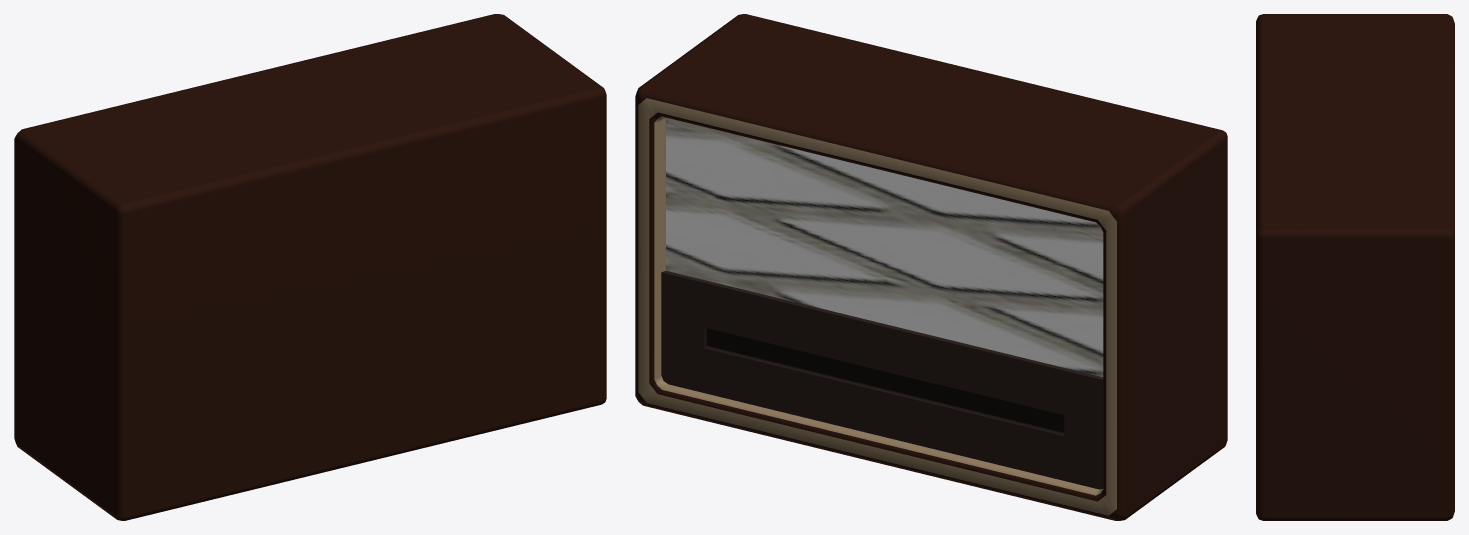
File: Radio.fbx
The picture shows the model from 3 angles, left to right: view 1: azimuth 30°, elevation 25°; view 2: azimuth 150°, elevation 25°; view 3: azimuth 270°, elevation 25°; orthographic projection. The views are drawn at different scales.
Visible parts, largest first — view 1: pCube254; view 2: pCube254; view 3: pCube254.
Part boxes in pixels (x1,y1,x2,y2): pCube254: (14, 14, 606, 520); pCube254: (635, 14, 1227, 520); pCube254: (1256, 14, 1454, 520).
Size of the model in its own units: 28.82 by 17.83 by 10.98.
